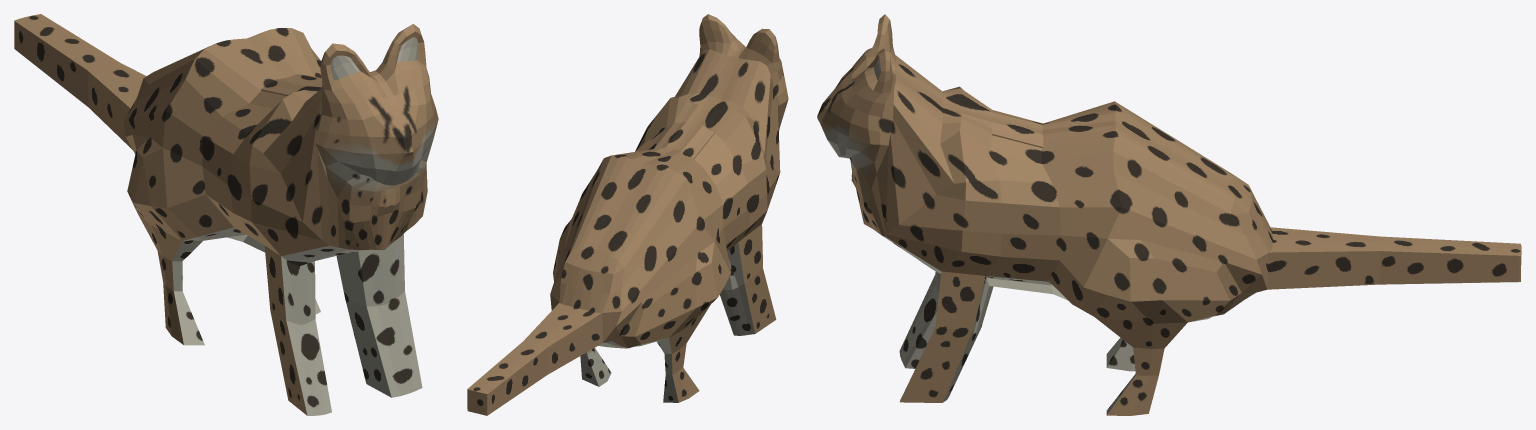
Rendered from Model_Saval.fbx.
3 views of the same model, side by side, from view 1: azimuth 30°, elevation 25°; view 2: azimuth 150°, elevation 25°; view 3: azimuth 270°, elevation 25° (orthographic). The views are drawn at different scales.
Visible parts, largest first — view 1: saval; view 2: saval; view 3: saval.
Part boxes in pixels (bbox=[...]): saval: bbox=[14, 14, 438, 415]; saval: bbox=[467, 14, 788, 415]; saval: bbox=[817, 14, 1521, 415].
Size of the model in its own units: 143 by 251 by 447.
Materials: 1 (1 with a texture image).
